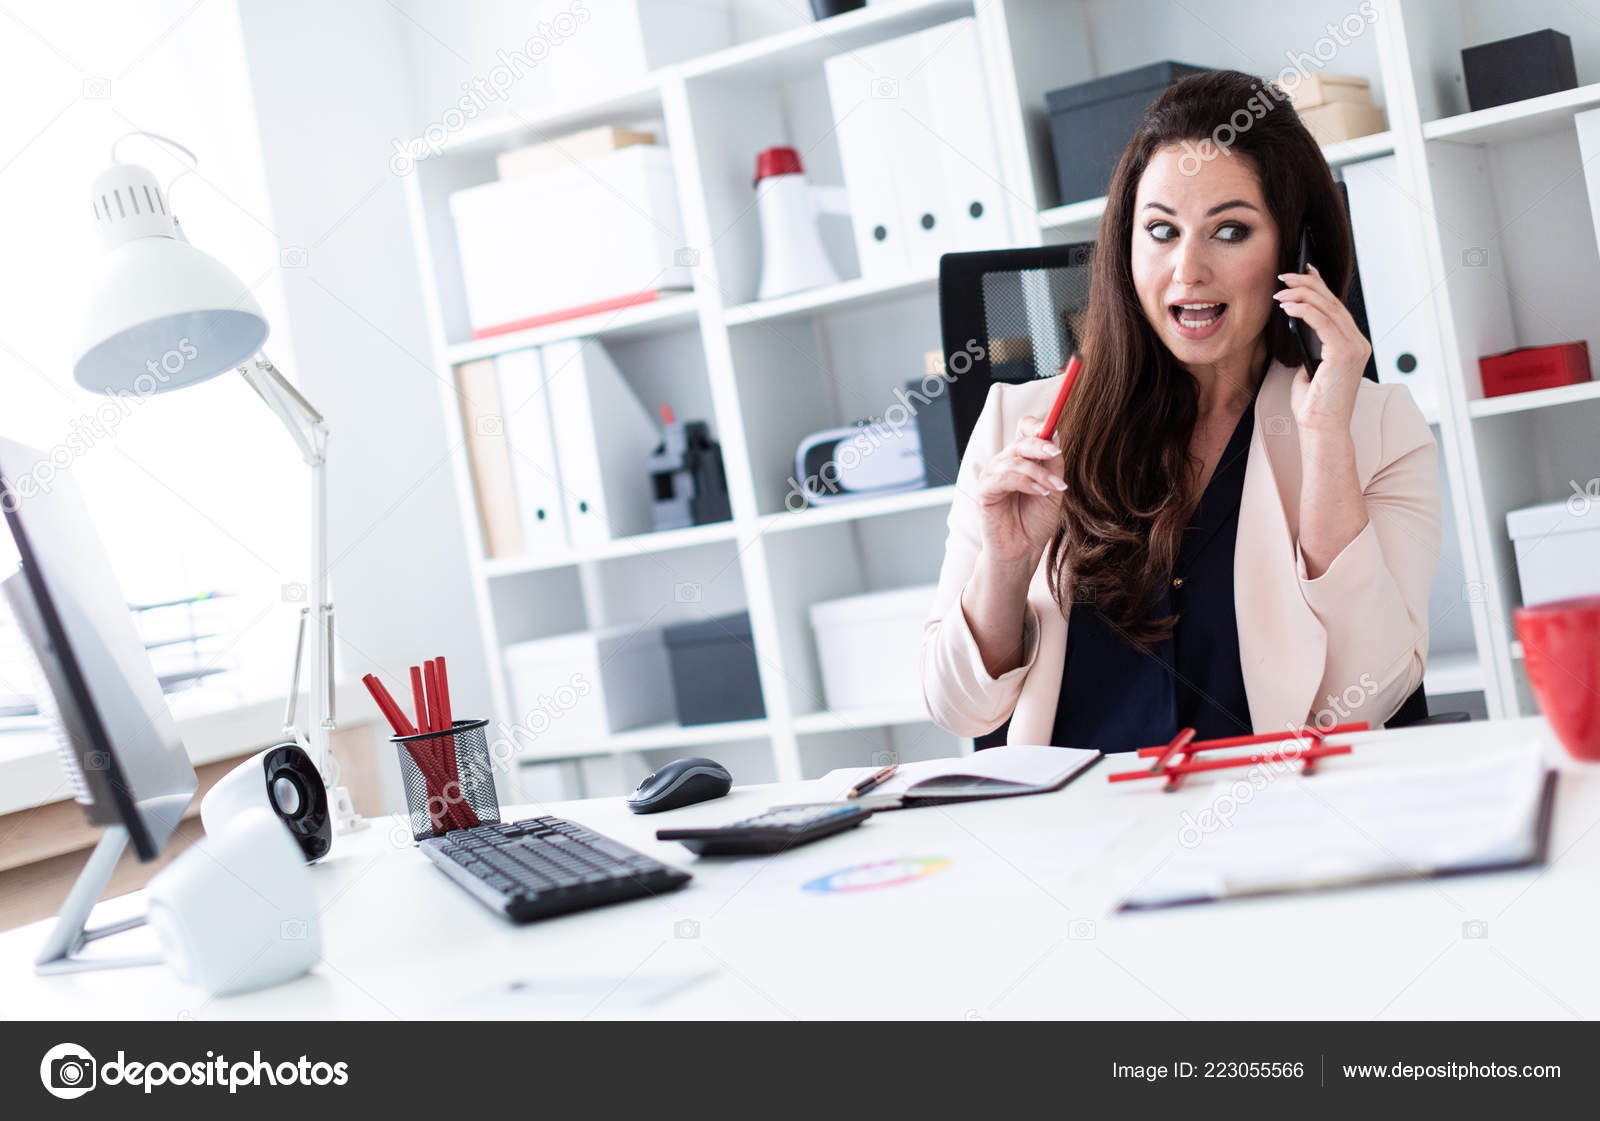phone: (1257, 222, 1376, 368)
talk: (1126, 193, 1387, 445)
